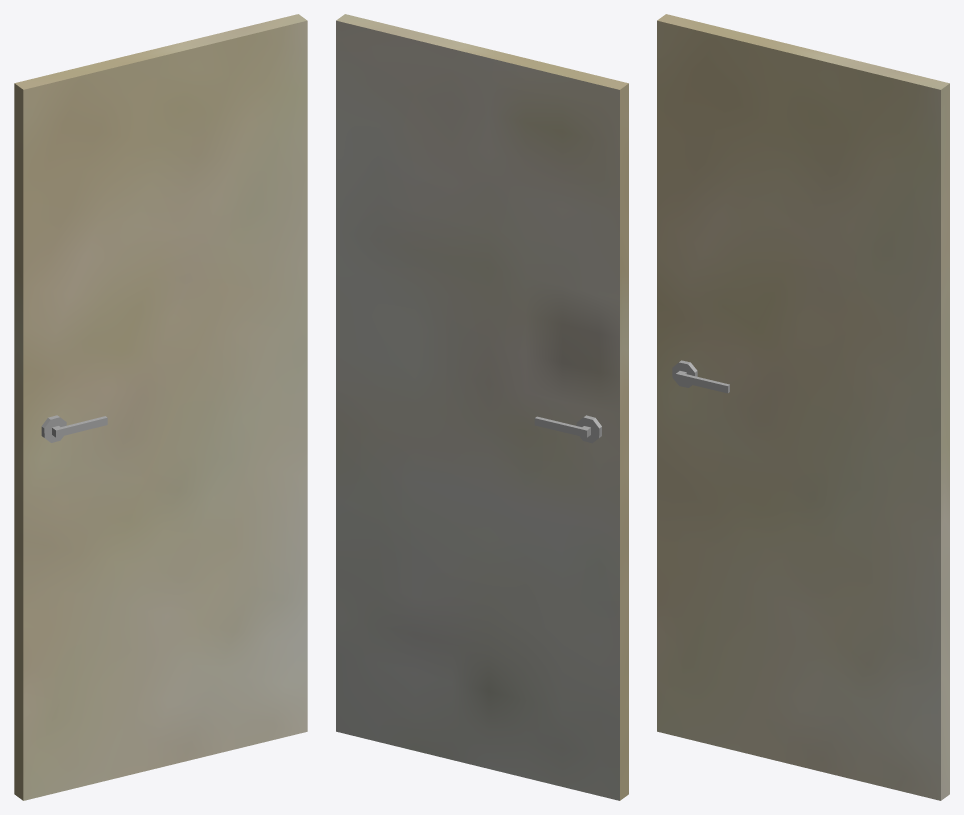
File: pintutoilet (3).fbx
3 renders of one model, left to right at view 1: azimuth 30°, elevation 25°; view 2: azimuth 150°, elevation 25°; view 3: azimuth 330°, elevation 25°, orthographic.
Visible parts, largest first — view 1: pintuutoilet2; view 2: pintuutoilet2; view 3: pintuutoilet2.
Boxes of the visible parts, x1=… form: pintuutoilet2: x1=14, y1=14, x2=307, y2=800; pintuutoilet2: x1=336, y1=14, x2=628, y2=800; pintuutoilet2: x1=657, y1=14, x2=949, y2=800.
Bounding box in the file's own units: 121 × 290 × 17.24.
